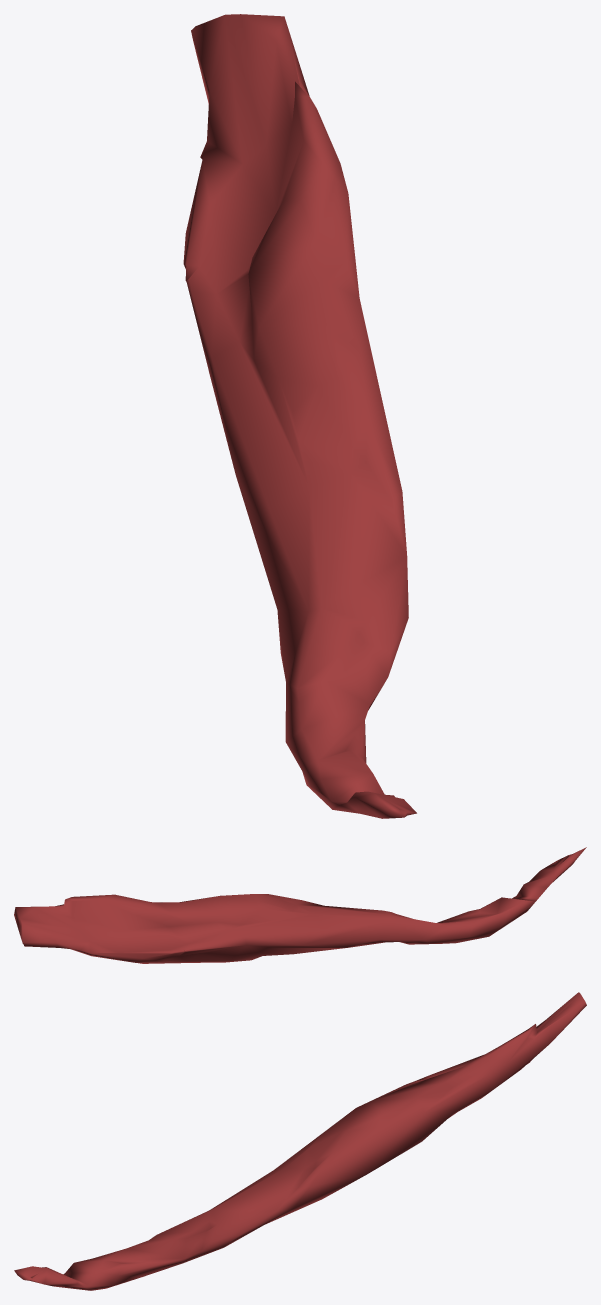
File: flexor-digiti-minimi-of-foot-r.glb
The picture shows the model from 3 angles, top to bottom: view 1: azimuth 30°, elevation 25°; view 2: azimuth 150°, elevation 25°; view 3: azimuth 330°, elevation 25°; orthographic projection. The views are drawn at different scales.
Parts seen in each view (by area): view 1: Flexor digiti minimi of foot.r; view 2: Flexor digiti minimi of foot.r; view 3: Flexor digiti minimi of foot.r.
Boxes of the visible parts, bbox=[...] form: Flexor digiti minimi of foot.r: bbox=[183, 14, 416, 818]; Flexor digiti minimi of foot.r: bbox=[14, 847, 586, 963]; Flexor digiti minimi of foot.r: bbox=[14, 992, 586, 1290].
Bounding box in the file's own units: 0.033 × 0.0184 × 0.0727.
